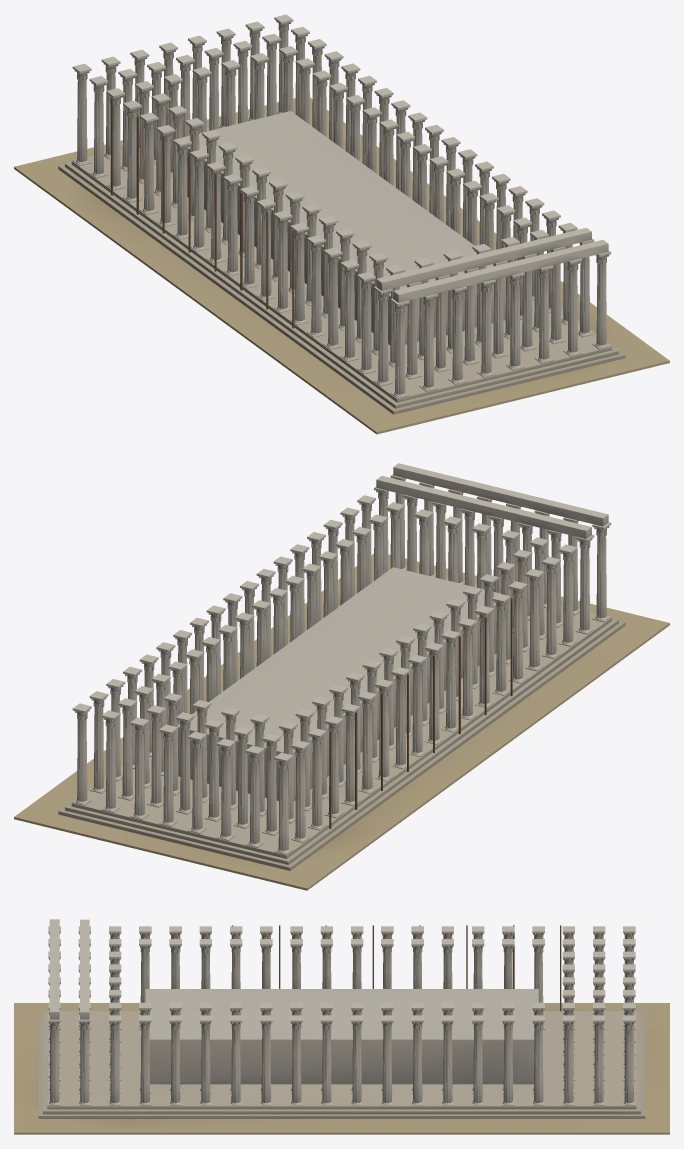
Rendered from olympieion-antiochus.glb.
3 views of the same model, one above another, from view 1: azimuth 30°, elevation 25°; view 2: azimuth 150°, elevation 25°; view 3: azimuth 270°, elevation 25° (orthographic). The views are drawn at different scales.
Parts seen in each view (by area): view 1: p1_columns, p0_platform, p2_architraves; view 2: p1_columns, p0_platform, p2_architraves; view 3: p1_columns, p0_platform, p2_architraves.
Part boxes in pixels (left/top/right/bottom): p1_columns: left=72, top=14, right=611, bottom=398; p0_platform: left=14, top=97, right=669, bottom=434; p2_architraves: left=111, top=97, right=608, bottom=328; p1_columns: left=72, top=474, right=611, bottom=854; p0_platform: left=14, top=554, right=669, bottom=890; p2_architraves: left=329, top=463, right=608, bottom=828; p1_columns: left=48, top=926, right=635, bottom=1105; p0_platform: left=14, top=1003, right=669, bottom=1134; p2_architraves: left=49, top=919, right=561, bottom=1019.
Bounding box in the file's own units: 56 × 21 × 120.
